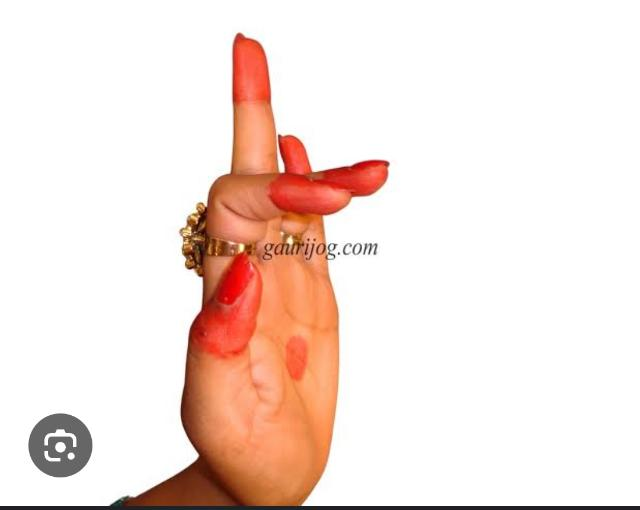shuktund: (181, 37, 389, 505)
